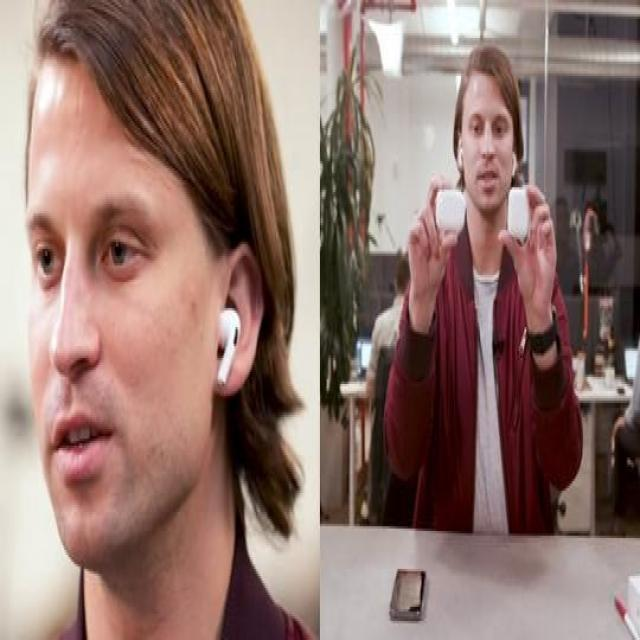earphone: (194, 277, 258, 413), (437, 185, 470, 237), (510, 192, 535, 242), (452, 142, 475, 182), (508, 143, 522, 190)
smart phone: (368, 547, 438, 633)
